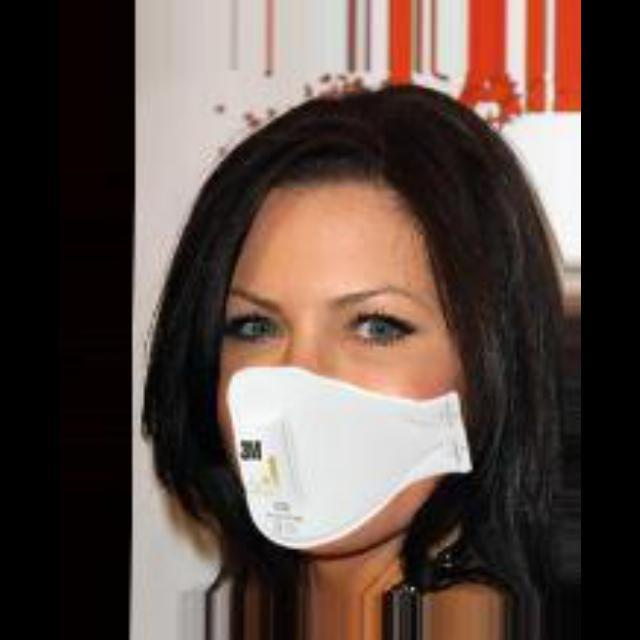suspicion: (136, 100, 492, 568)
